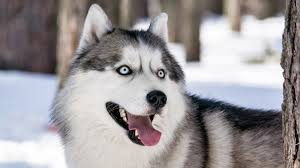Bulldog: (46, 3, 277, 168)
